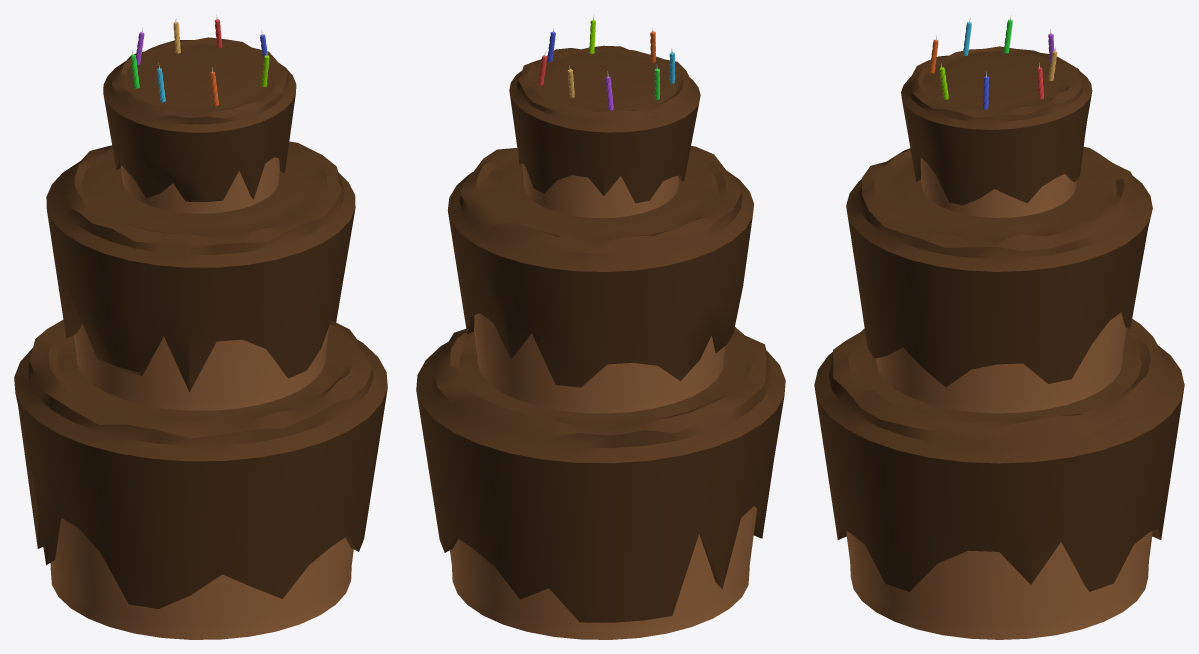
Rendered from cake.glb.
3 views of the same model, side by side, from view 1: azimuth 30°, elevation 25°; view 2: azimuth 150°, elevation 25°; view 3: azimuth 270°, elevation 25° (orthographic).
Parts seen in each view (by area): view 1: Cylinder.001, Cylinder.003, Cylinder.005, Cylinder, Cylinder.002, Cylinder.004; view 2: Cylinder.001, Cylinder.003, Cylinder.005, Cylinder, Cylinder.002, Cylinder.004; view 3: Cylinder.001, Cylinder.003, Cylinder.005, Cylinder, Cylinder.002, Cylinder.004.
Part boxes in pixels (bbox=[...]): Cylinder.001: bbox=[14, 319, 387, 608]; Cylinder.003: bbox=[46, 141, 355, 392]; Cylinder.005: bbox=[103, 37, 296, 201]; Cylinder: bbox=[50, 517, 353, 639]; Cylinder.002: bbox=[74, 324, 329, 410]; Cylinder.004: bbox=[121, 157, 279, 213]; Cylinder.001: bbox=[416, 327, 785, 622]; Cylinder.003: bbox=[447, 146, 754, 387]; Cylinder.005: bbox=[509, 45, 700, 203]; Cylinder: bbox=[450, 506, 756, 639]; Cylinder.002: bbox=[474, 313, 725, 413]; Cylinder.004: bbox=[522, 163, 679, 218]; Cylinder.001: bbox=[814, 319, 1184, 591]; Cylinder.003: bbox=[846, 146, 1152, 387]; Cylinder.005: bbox=[901, 46, 1092, 205]; Cylinder: bbox=[846, 531, 1152, 639]; Cylinder.002: bbox=[876, 312, 1126, 413]; Cylinder.004: bbox=[920, 158, 1076, 217].
Bounding box in the file's own units: 0.6225 × 0.9886 × 0.6224.
